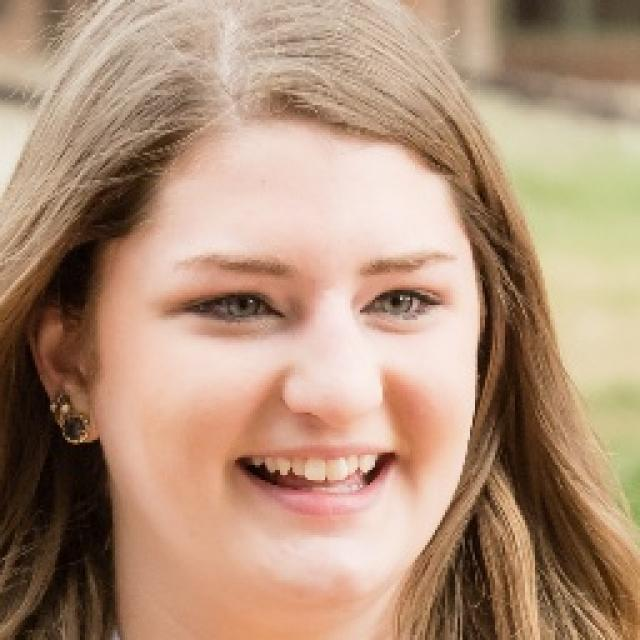earlobe: (52, 393, 101, 446)
eye: (183, 283, 278, 328), (361, 289, 446, 325)
nose: (273, 403, 377, 444)
wholeear: (26, 285, 102, 446)
